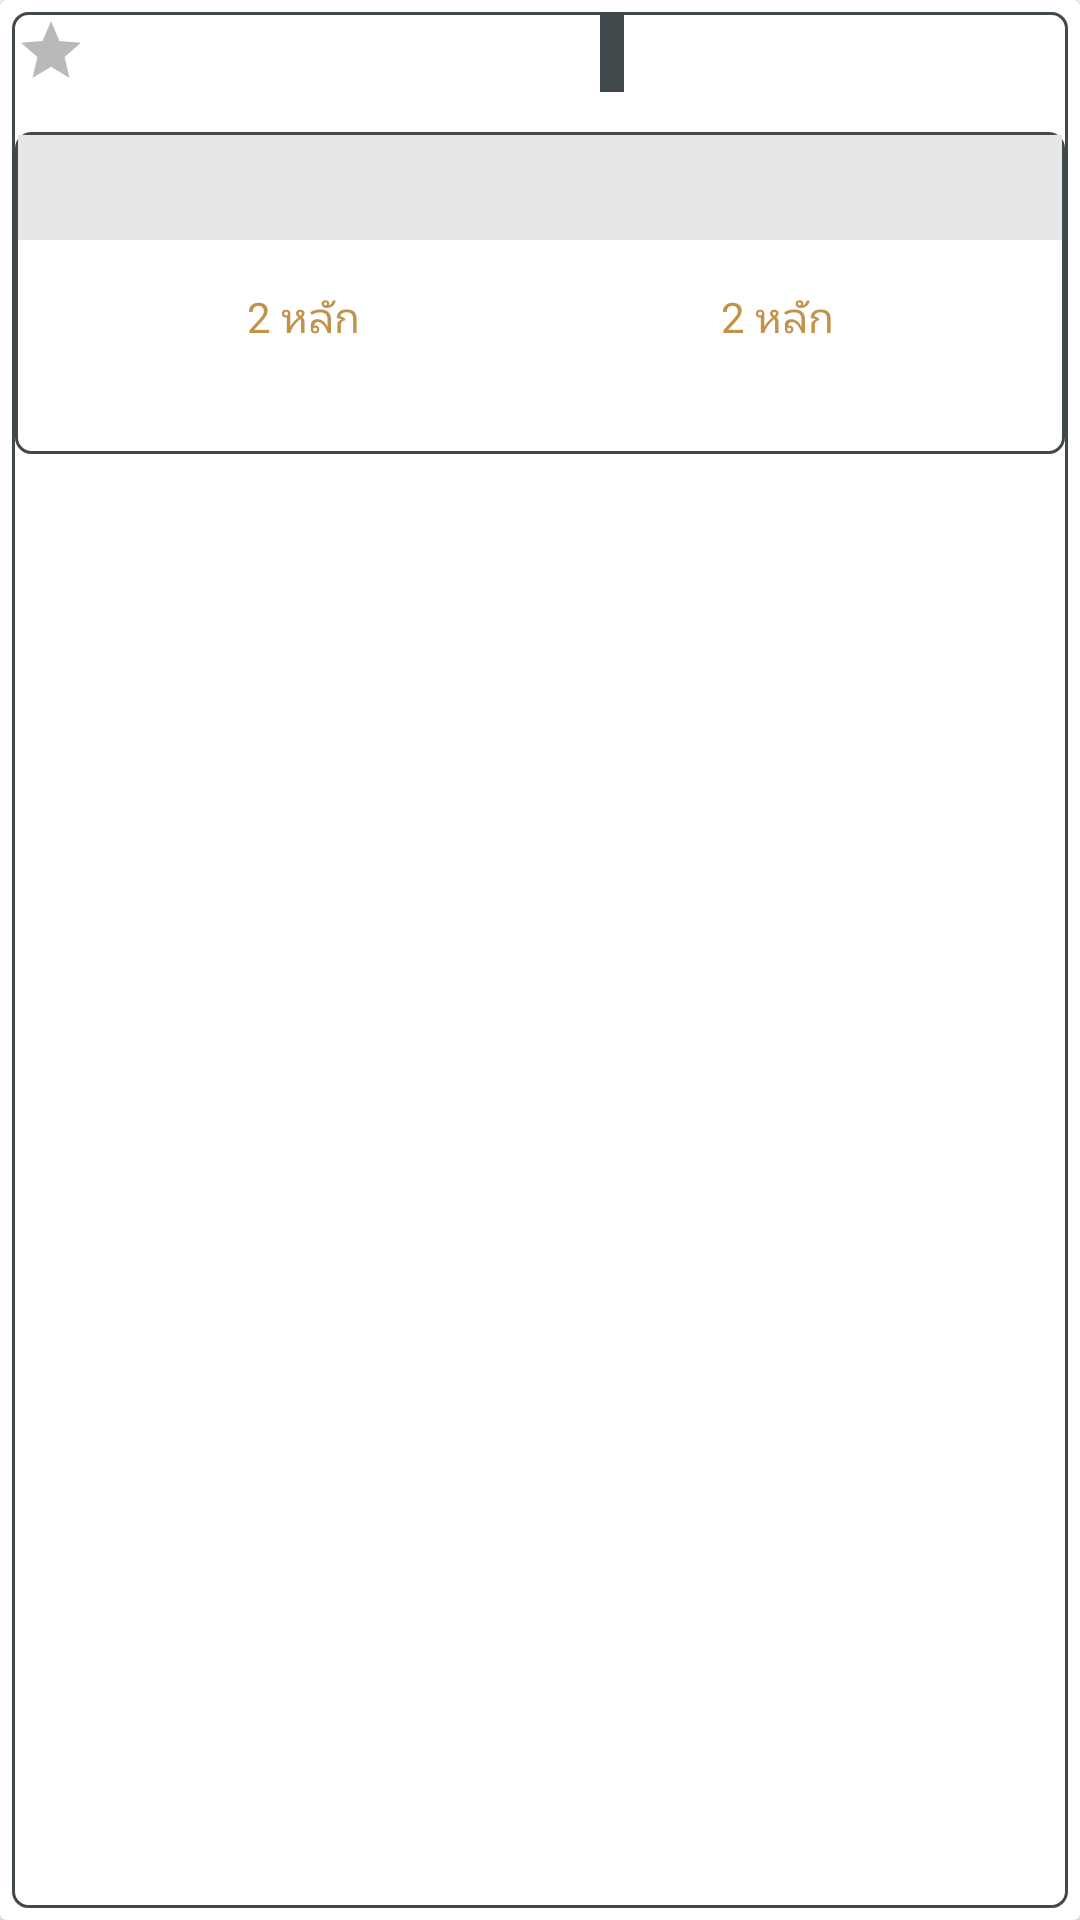

Icons on this 1080 × 1920 Android screen, each with the point to tap as (x,y):
star: (51,50)
